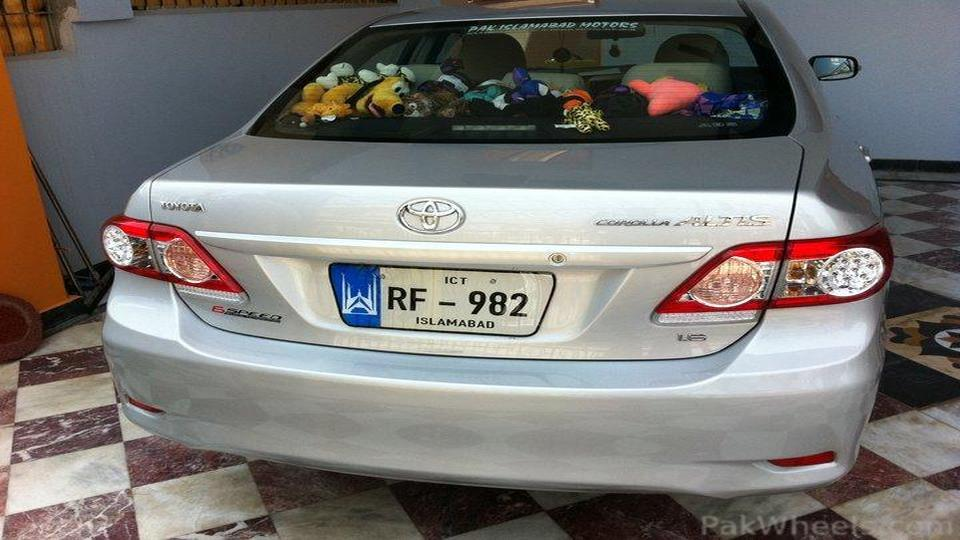NumberPlate: (329, 252, 555, 351)
